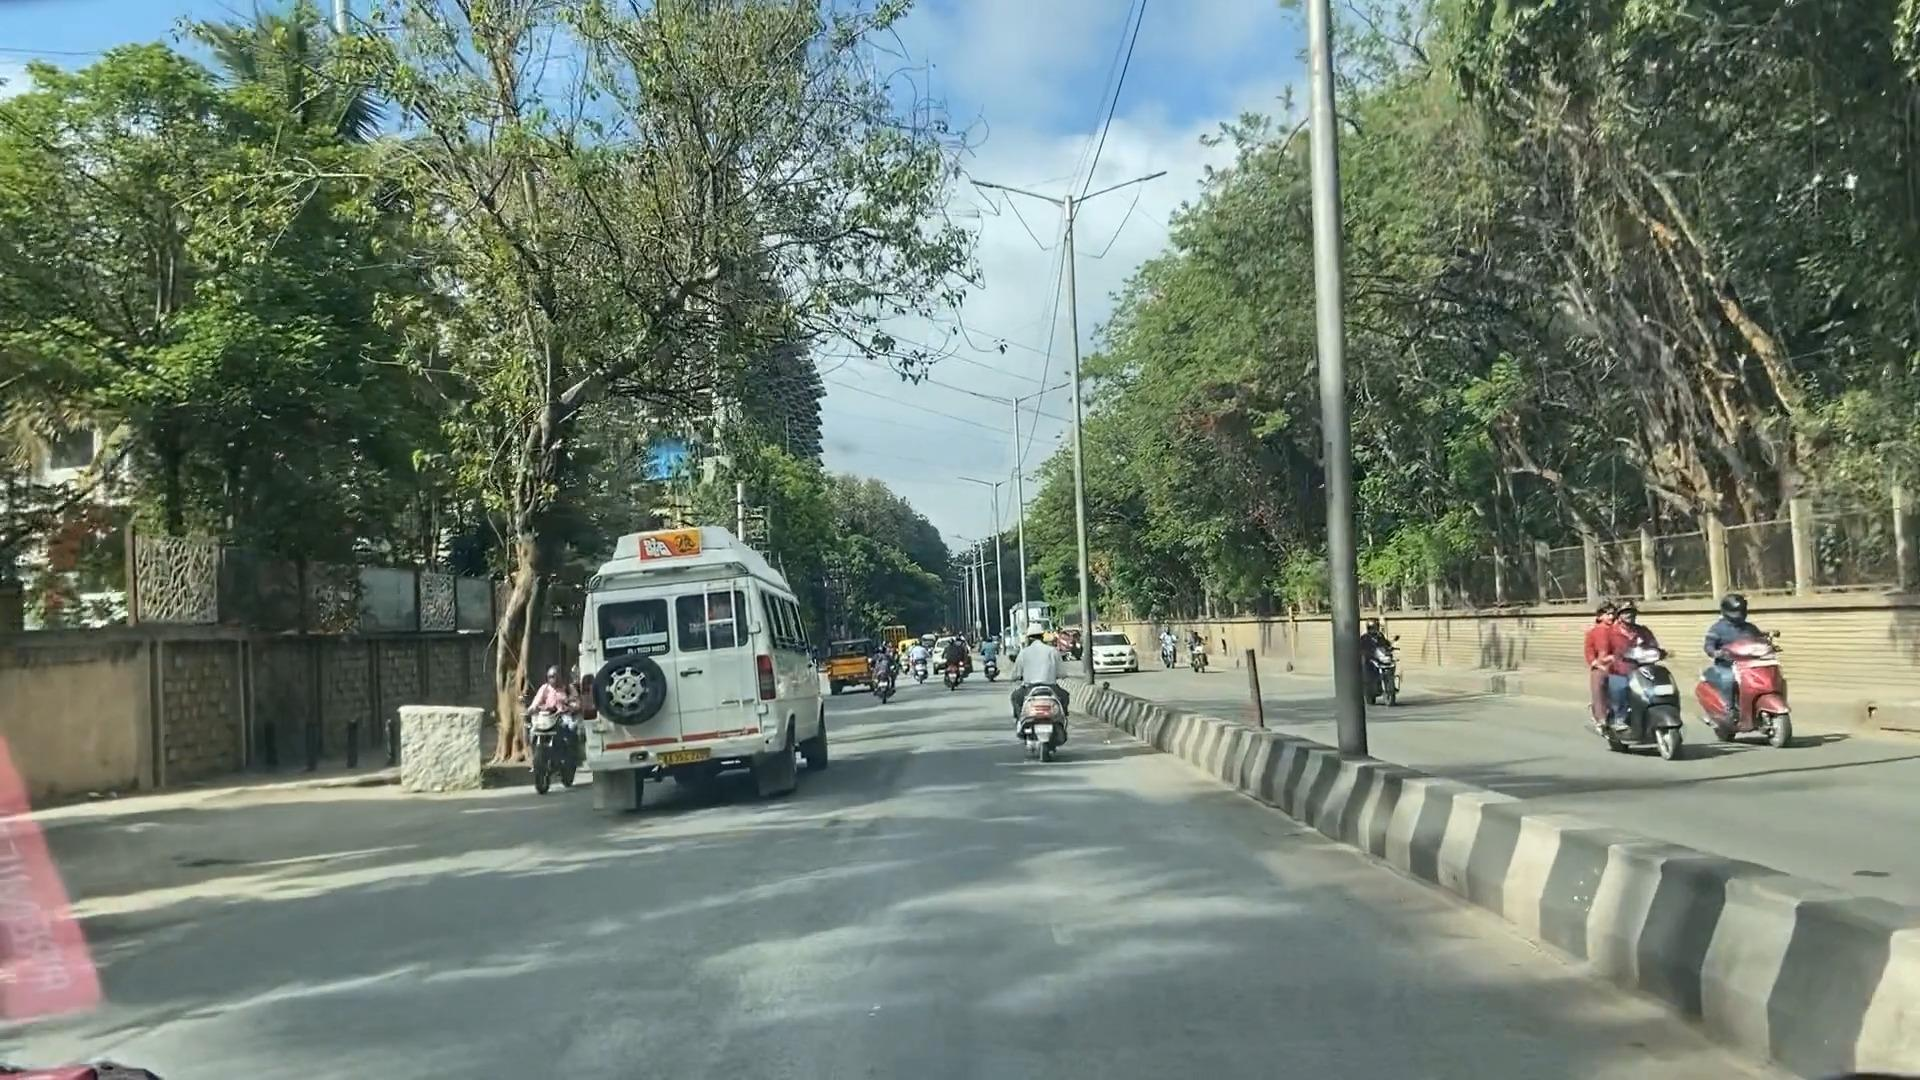HMV: (583, 516, 823, 820)
LMV: (1010, 608, 1087, 769)
